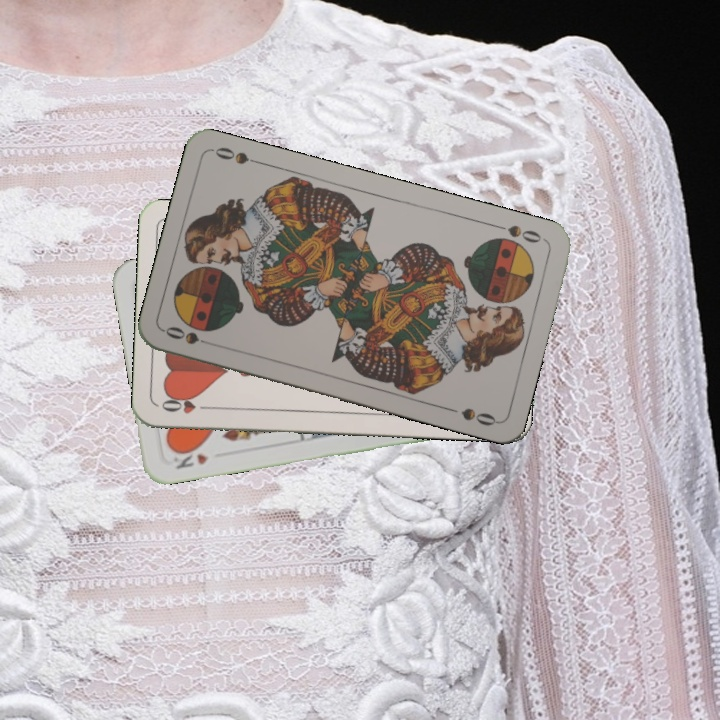HK: (166, 443, 211, 472)
HO: (157, 393, 215, 417)
SO: (161, 322, 219, 350), (490, 220, 548, 246)
